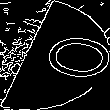O_W: (9, 26, 101, 84)
